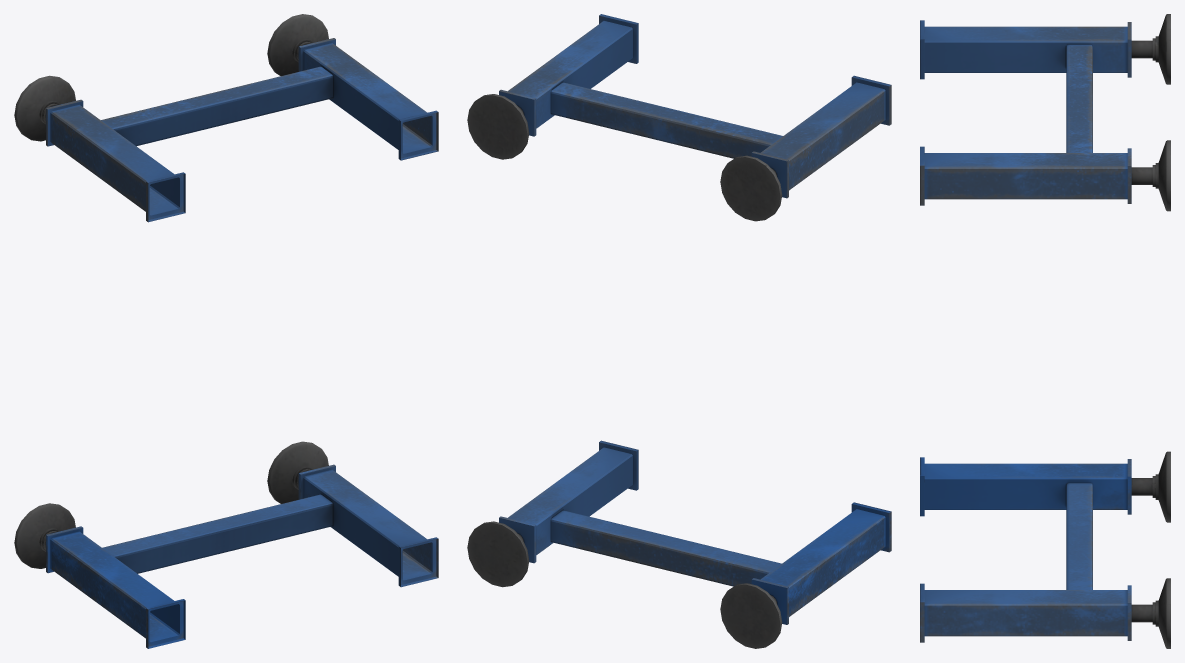
File: conveyor5.dae
3 renders of one model, left to right at view 1: azimuth 30°, elevation 25°; view 2: azimuth 150°, elevation 25°; view 3: azimuth 270°, elevation 25°, orthographic. The views are drawn at different scales.
Parts seen in each view (by area): view 1: Conveyor01Legs_Conveyor_0.005; view 2: Conveyor01Legs_Conveyor_0.005; view 3: Conveyor01Legs_Conveyor_0.005.
Part boxes in pixels (bbox=[...]): Conveyor01Legs_Conveyor_0.005: bbox=[14, 14, 438, 648]; Conveyor01Legs_Conveyor_0.005: bbox=[467, 14, 891, 648]; Conveyor01Legs_Conveyor_0.005: bbox=[920, 14, 1170, 648].
Size of the model in its own units: 0.833 by 0.5645 by 1.24.
